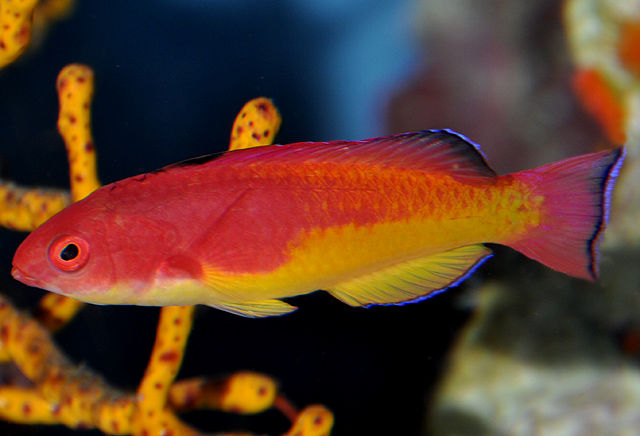fish: (11, 128, 628, 318)
